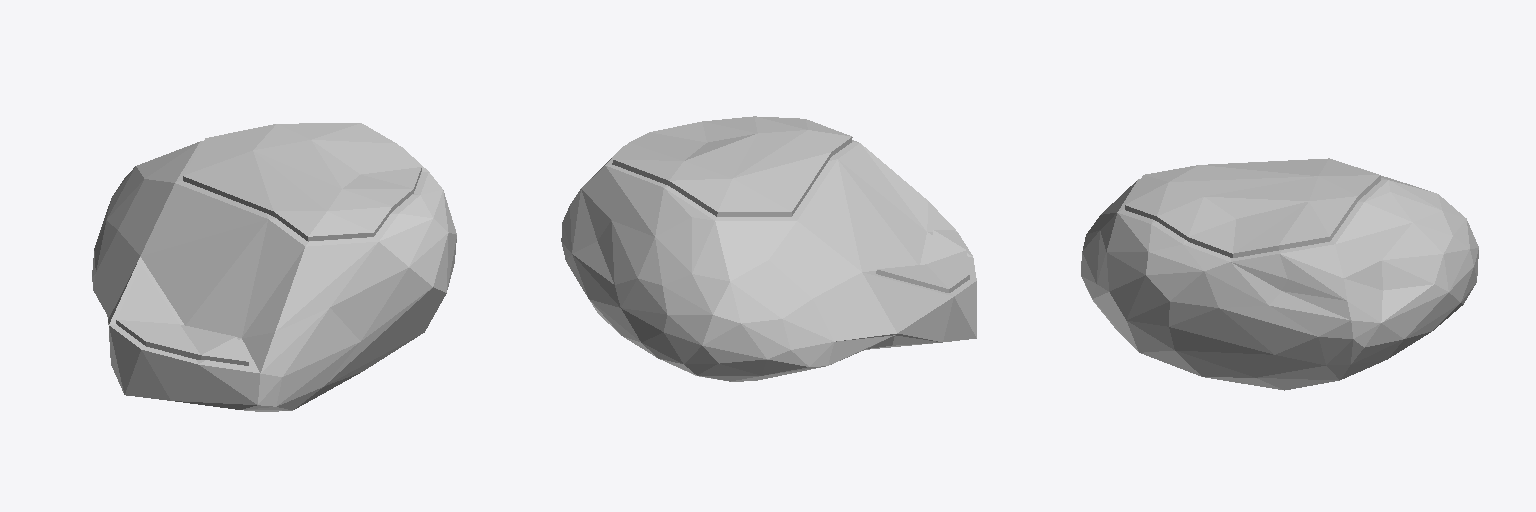
The model's file is winter-rock1.obj.
3 views of the same model, side by side, from view 1: azimuth 30°, elevation 25°; view 2: azimuth 150°, elevation 25°; view 3: azimuth 270°, elevation 25° (orthographic).
Visible parts, largest first — view 1: Cube.006; view 2: Cube.006; view 3: Cube.006.
Part boxes in pixels (x1,y1,x2,y2): Cube.006: (92,123,456,411); Cube.006: (561,116,976,381); Cube.006: (1081,158,1478,390).
Bounding box in the file's own units: 2.67 × 1.34 × 2.71.